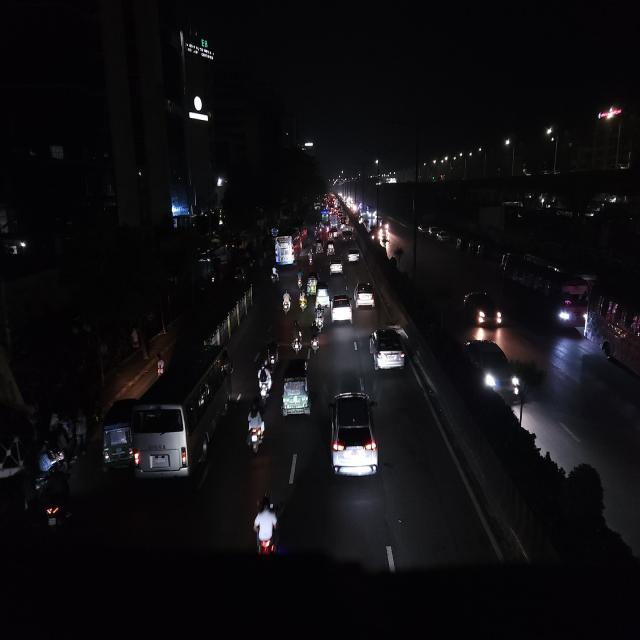bus: (133, 340, 233, 491), (498, 251, 590, 329), (584, 275, 640, 392), (274, 224, 304, 268)
car: (326, 387, 381, 487), (461, 336, 526, 405), (368, 323, 409, 378), (460, 286, 506, 331), (329, 279, 352, 329), (354, 276, 376, 312), (328, 256, 343, 277), (346, 247, 362, 264), (436, 229, 451, 246)
cng: (101, 394, 137, 476), (281, 356, 315, 424), (307, 270, 319, 297), (327, 238, 337, 254)
motorcycle: (28, 458, 72, 538), (250, 491, 282, 560), (244, 402, 266, 458), (256, 359, 274, 404), (266, 334, 280, 370), (290, 319, 304, 354), (308, 321, 322, 356), (314, 299, 326, 334), (153, 350, 167, 378), (282, 288, 293, 318), (298, 289, 308, 314), (270, 264, 280, 285), (306, 246, 314, 266)
pickup_van: (341, 229, 354, 242)
